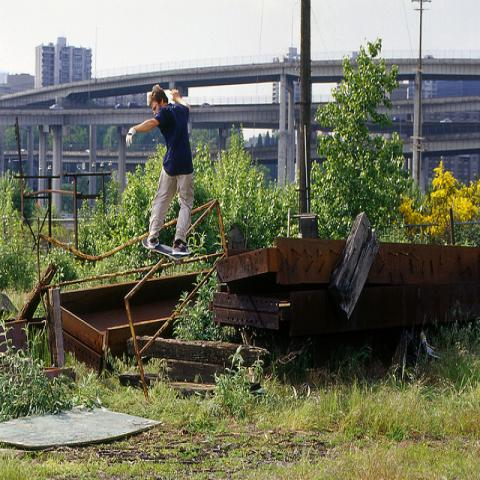car: (49, 103, 64, 110), (114, 103, 128, 109), (441, 118, 452, 123)
